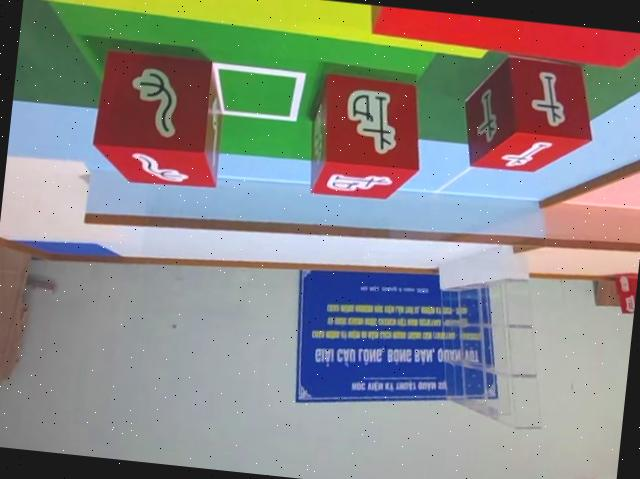R2 Real: (86, 34, 235, 196), (455, 47, 599, 182), (305, 71, 428, 204)
